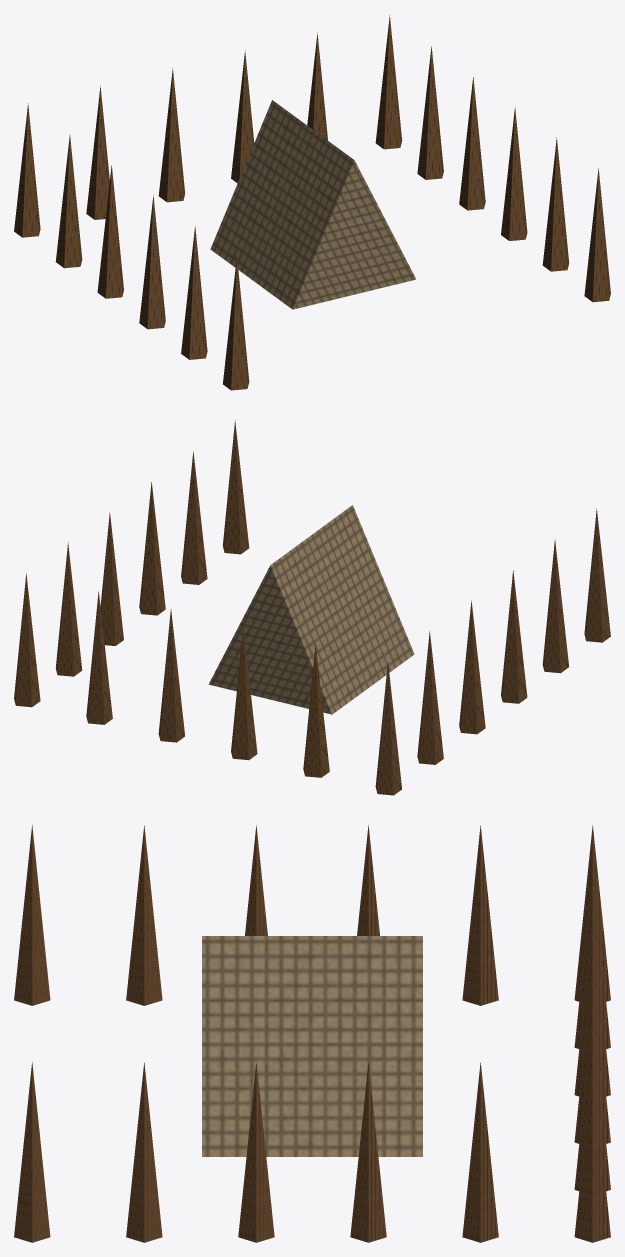
File: military-CAMP-1-lod1.glb
3 renders of one model, top to bottom at view 1: azimuth 30°, elevation 25°; view 2: azimuth 150°, elevation 25°; view 3: azimuth 270°, elevation 25°, orthographic. The views are drawn at different scales.
Bounding box in the file's own units: 0.807 × 0.27 × 0.8095.
1 material, 1 textured.
